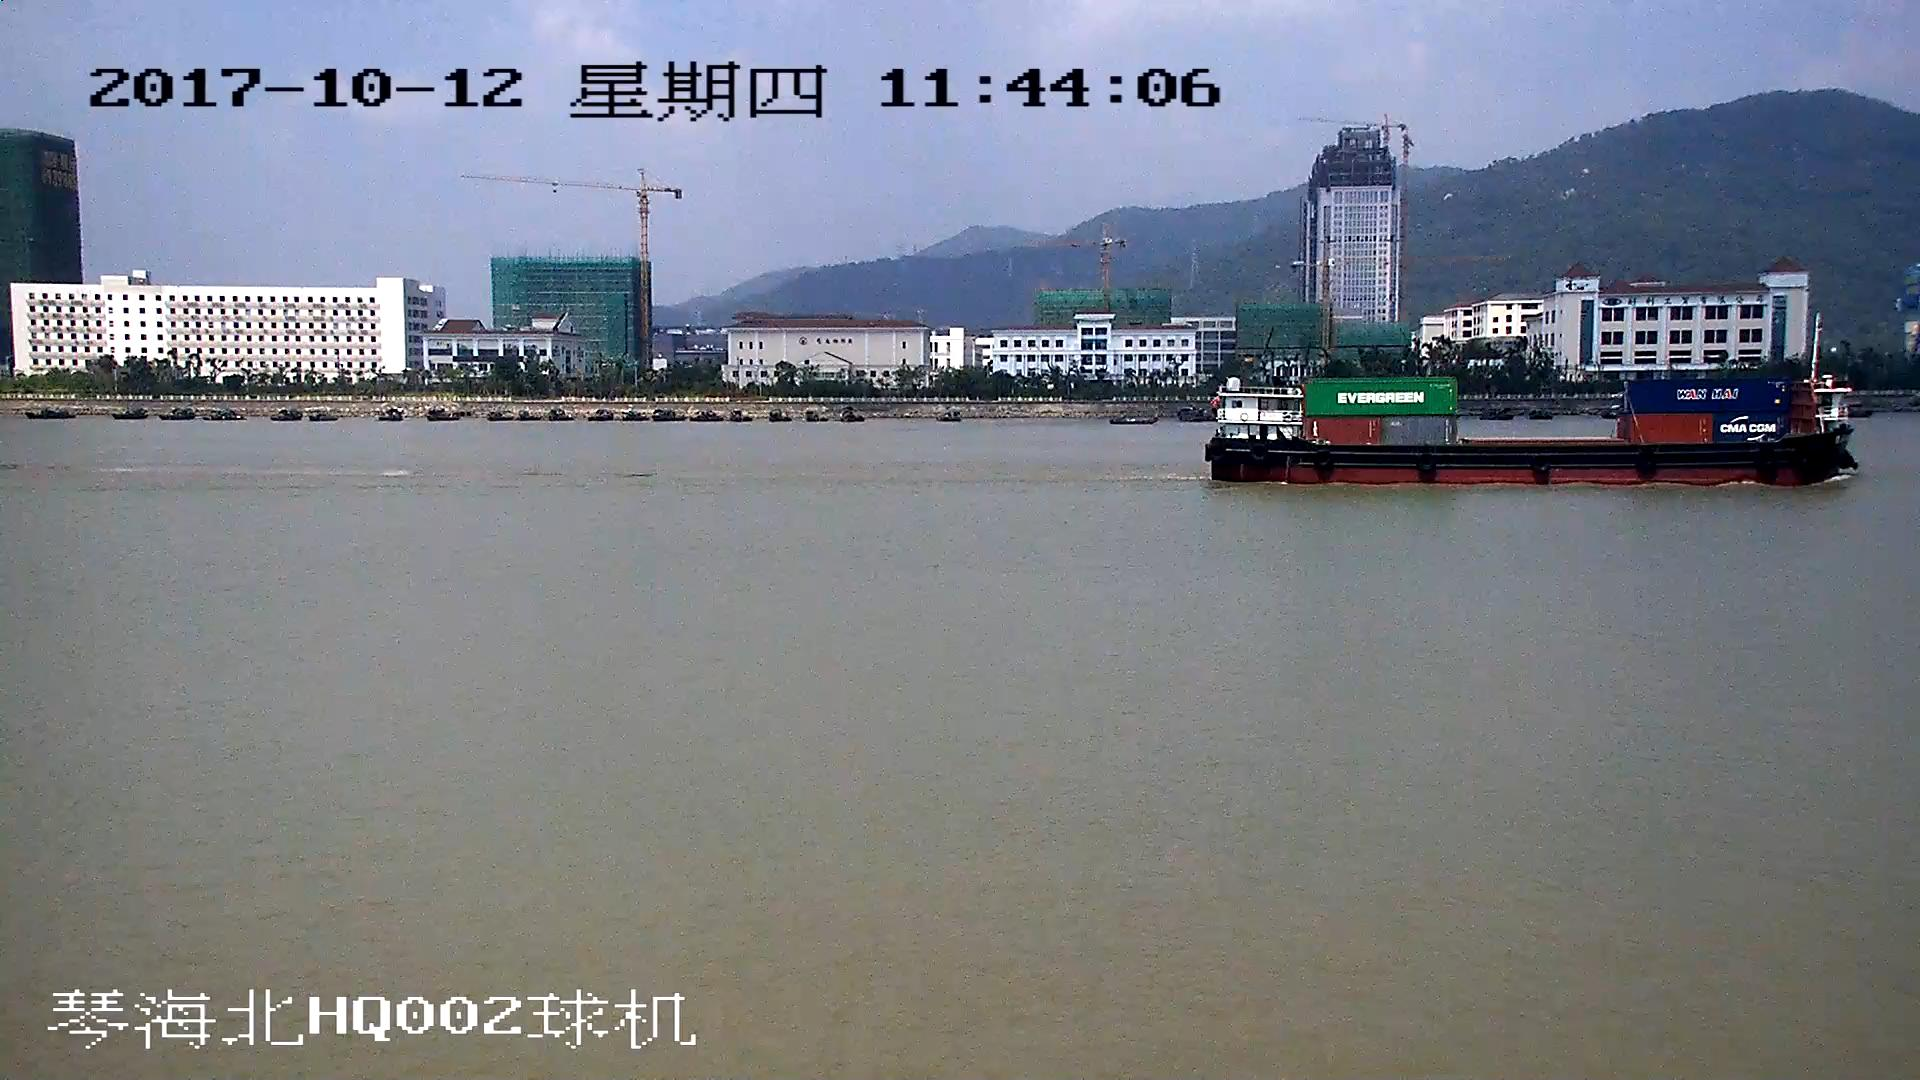container ship: (1212, 378, 1854, 487)
